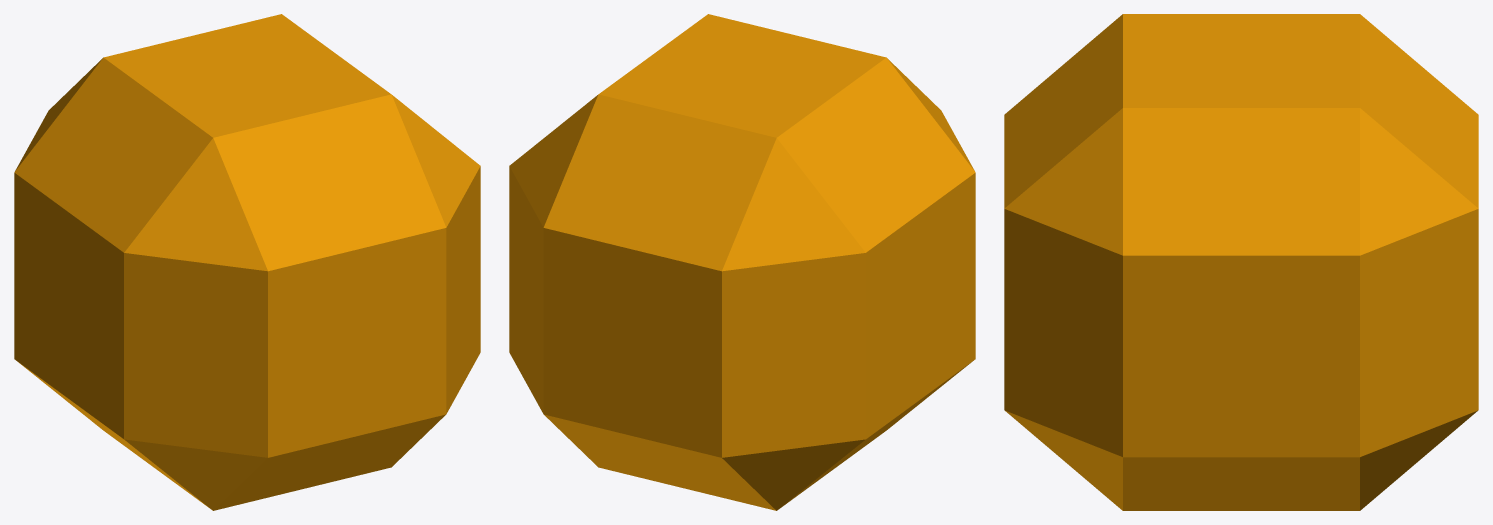
The model's file is rockfinal.fbx.
The picture shows the model from 3 angles, left to right: view 1: azimuth 30°, elevation 25°; view 2: azimuth 150°, elevation 25°; view 3: azimuth 270°, elevation 25°; orthographic projection. The views are drawn at different scales.
Visible parts, largest first — view 1: pCube1; view 2: pCube1; view 3: pCube1.
Boxes of the visible parts, <box> form: pCube1: <box>14,14,480,510</box>; pCube1: <box>509,14,975,510</box>; pCube1: <box>1004,14,1478,510</box>.
Size of the model in its own units: 149 by 149 by 158.
